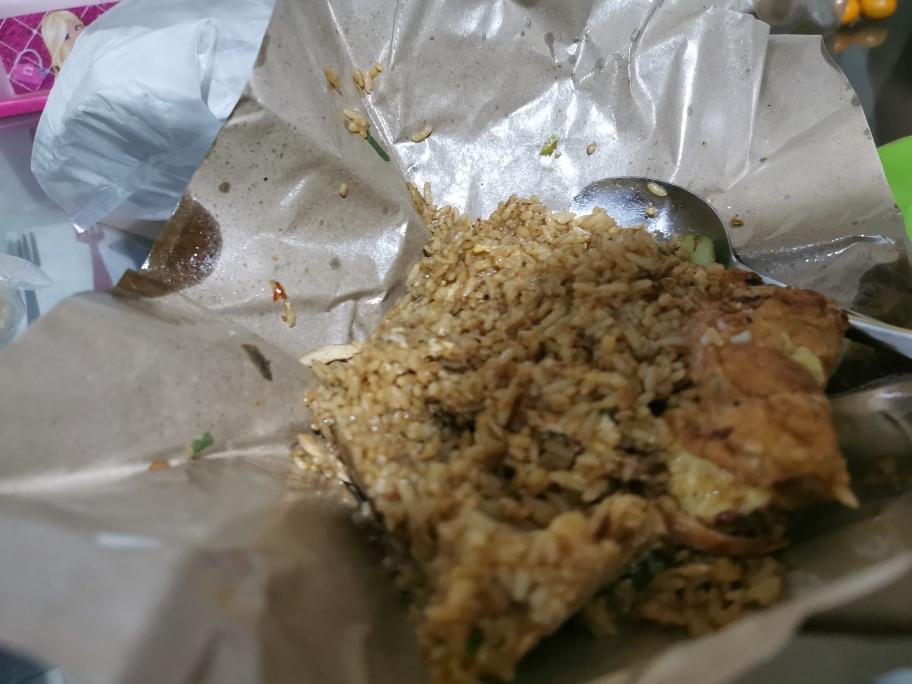nasi goreng: (331, 205, 835, 635)
